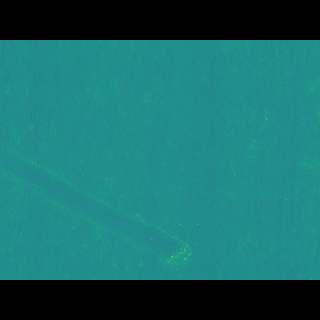Loch: (0, 147, 193, 240)
